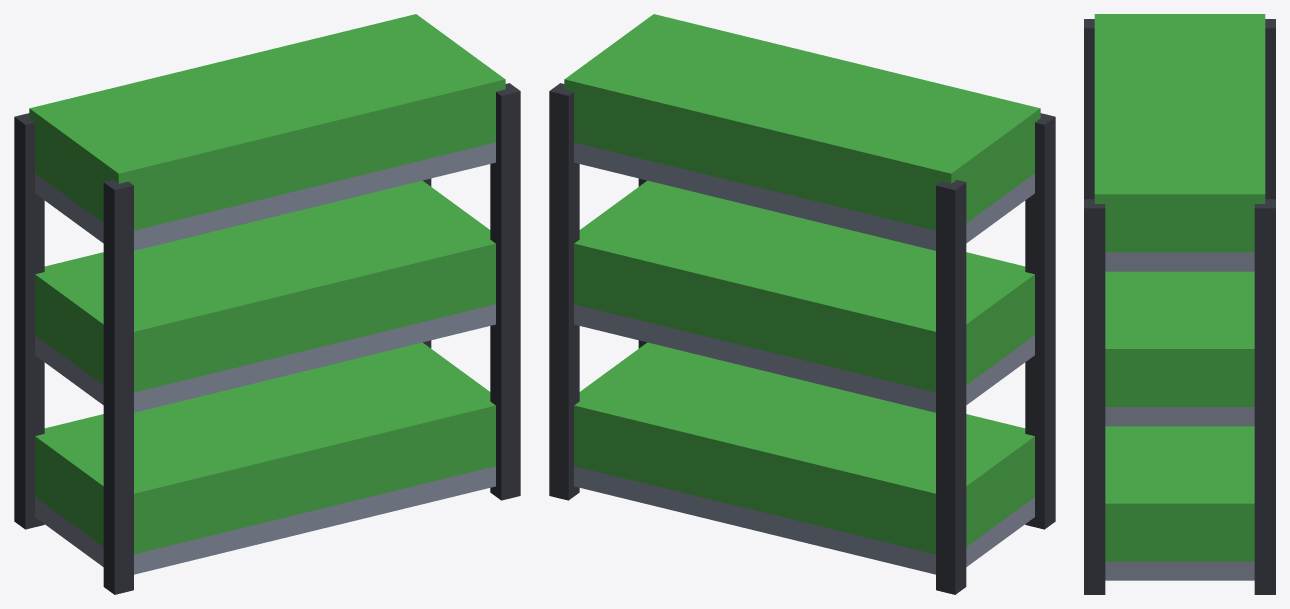
The model's file is colony-hydroponic-rack.glb.
The picture shows the model from 3 angles, left to right: view 1: azimuth 30°, elevation 25°; view 2: azimuth 150°, elevation 25°; view 3: azimuth 270°, elevation 25°; orthographic projection. The views are drawn at different scales.
Visible parts, largest first — view 1: hydroponic_rack; view 2: hydroponic_rack; view 3: hydroponic_rack.
Boxes of the visible parts, x1=… form: hydroponic_rack: x1=14, y1=14, x2=520, y2=594; hydroponic_rack: x1=549, y1=14, x2=1055, y2=594; hydroponic_rack: x1=1084, y1=14, x2=1275, y2=594.
Size of the model in its own units: 2.1 by 2.05 by 0.9.
